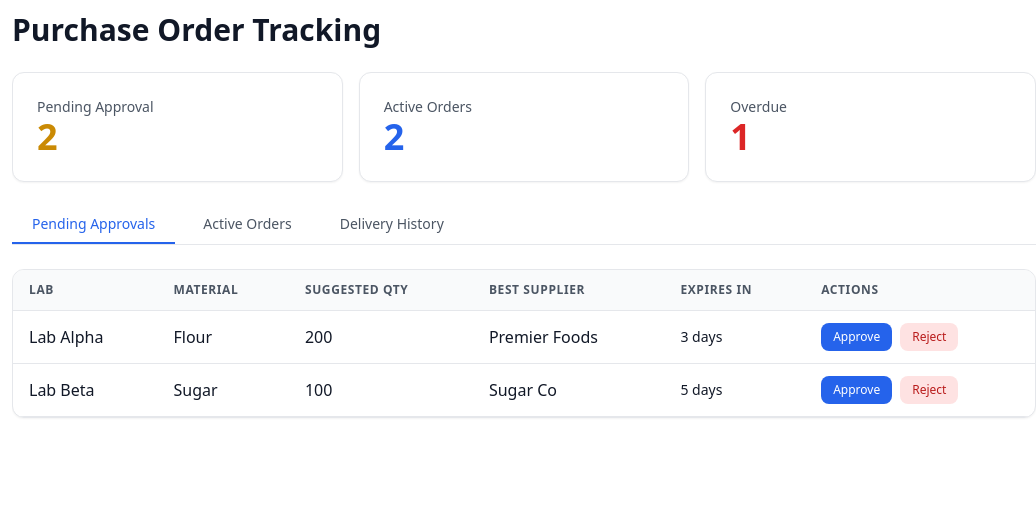
Test case: POTrackingPage — 3-tab architecture › renders Active Orders tab content when clicked
Expected: the text "Lab Alpha" is shown, [13, 311, 158, 364]
Step 1. Click the tab "Active Orders" → click(248, 225), box [183, 206, 312, 244]
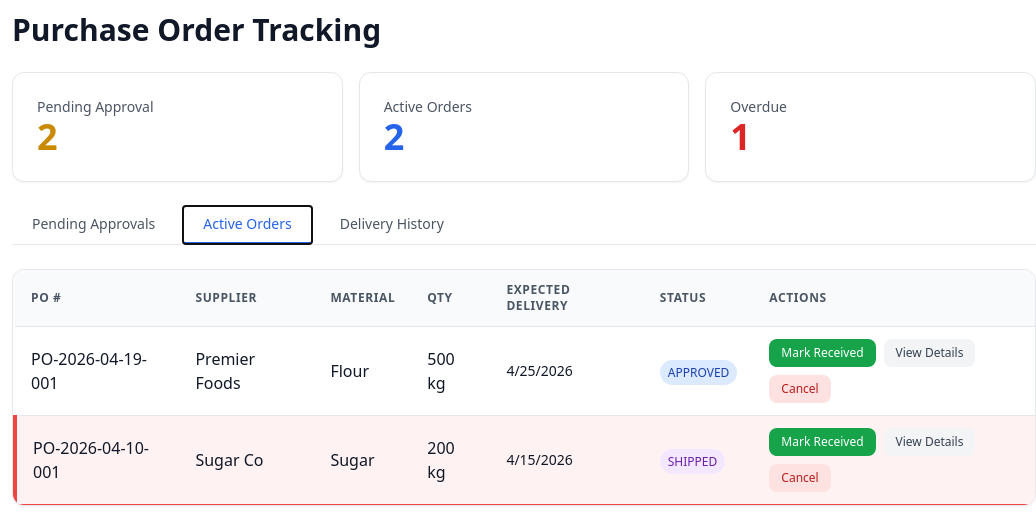
Result: the text "PO-2026-04-19-001" is shown at [15, 327, 179, 416]
Result: the text "APPROVED" is shown at [660, 360, 737, 385]
